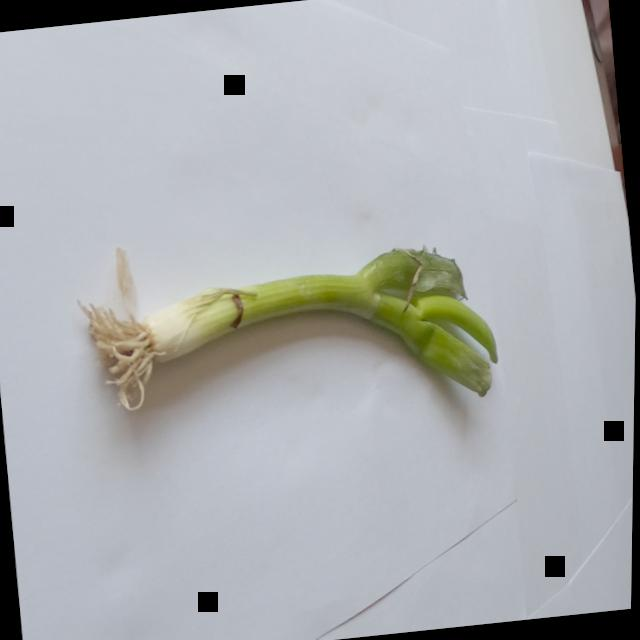Springonion: (51, 180, 536, 469)
